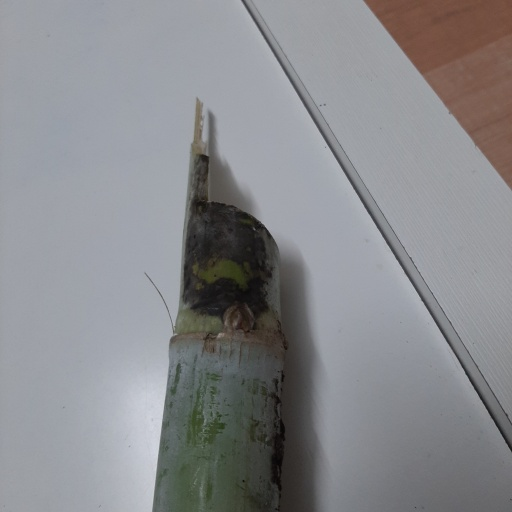Bud: (221, 302, 253, 331)
